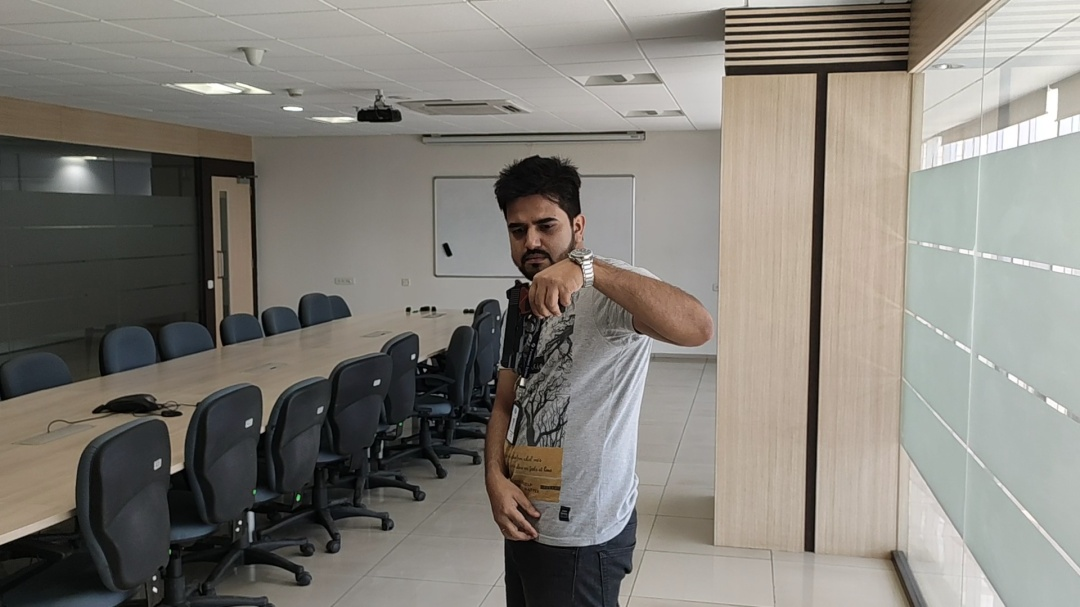gun: (499, 275, 535, 365)
